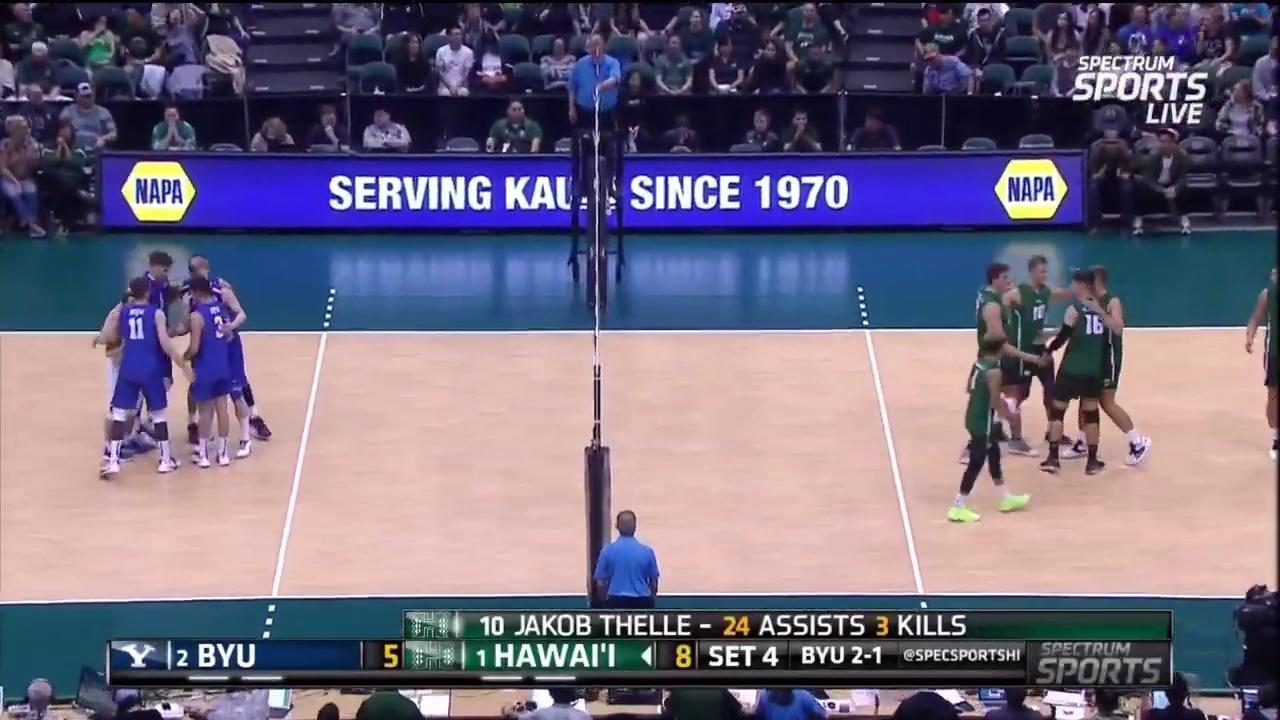player: (1070, 265, 1148, 478), (946, 329, 1031, 524), (186, 250, 269, 439), (1040, 266, 1110, 481), (116, 276, 174, 483), (181, 279, 241, 475), (1009, 254, 1065, 454), (125, 249, 178, 451), (969, 264, 1021, 447), (1251, 254, 1280, 460), (99, 284, 137, 436)
refree: (564, 30, 629, 197), (593, 510, 660, 625)
